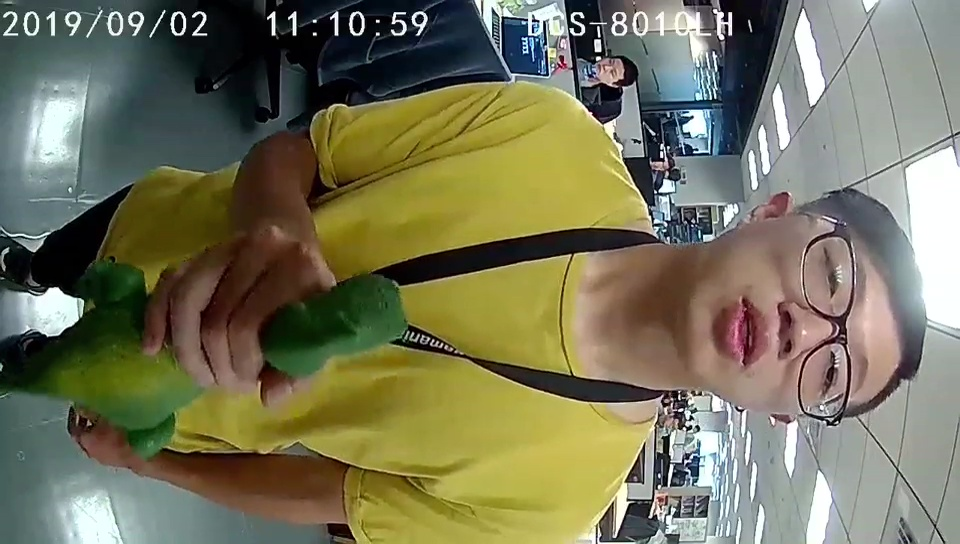rex: (71, 275, 408, 460)
